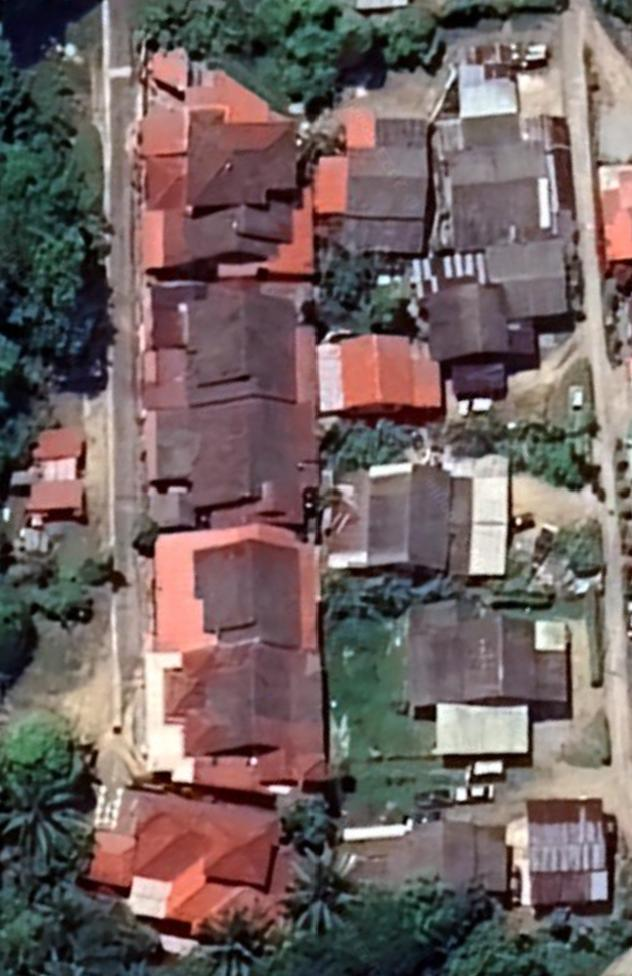building: (129, 29, 321, 279), (387, 587, 580, 787), (67, 789, 307, 941), (409, 221, 589, 410), (131, 280, 327, 436), (434, 33, 570, 250), (320, 446, 523, 586), (144, 517, 324, 660), (154, 637, 316, 794), (140, 410, 331, 534), (309, 99, 441, 267), (369, 809, 524, 909), (517, 784, 621, 919), (314, 321, 457, 417)
